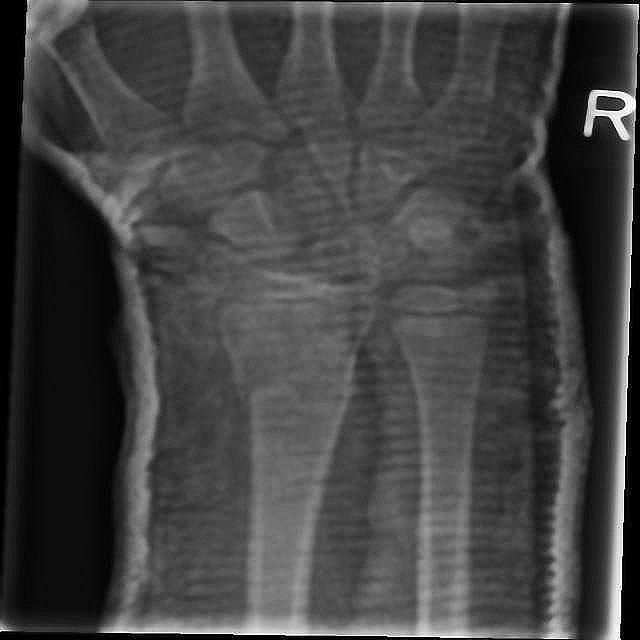bone: (385, 277, 506, 328), (237, 355, 351, 405)
